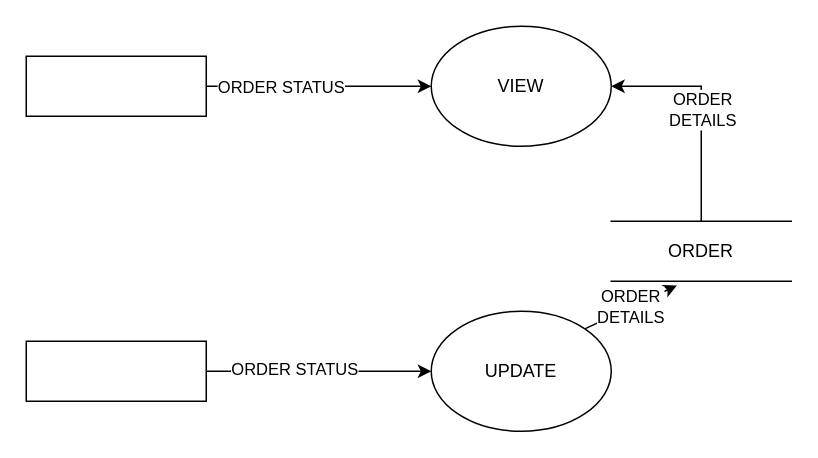
This 818x458 diagram has some shape labels left out. The shapes that lost their labels are listed below. From the top down, each one's centre as x and y in pixels, then its label:
At pixel 115 85: "USER".
At pixel 115 370: "ADMIN".
